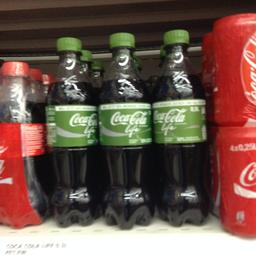soda: (96, 28, 154, 230), (151, 28, 207, 226), (42, 34, 100, 225), (0, 57, 47, 230), (209, 12, 255, 124), (214, 124, 255, 236)
